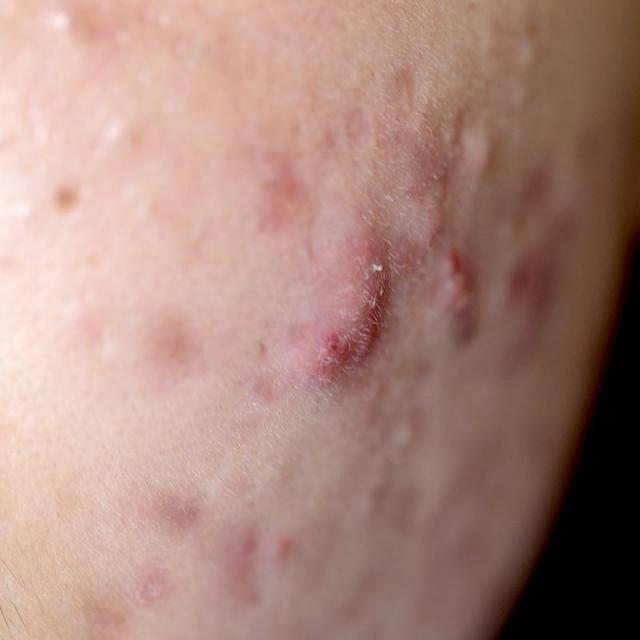Pimples: (326, 225, 386, 386), (423, 238, 487, 359)
